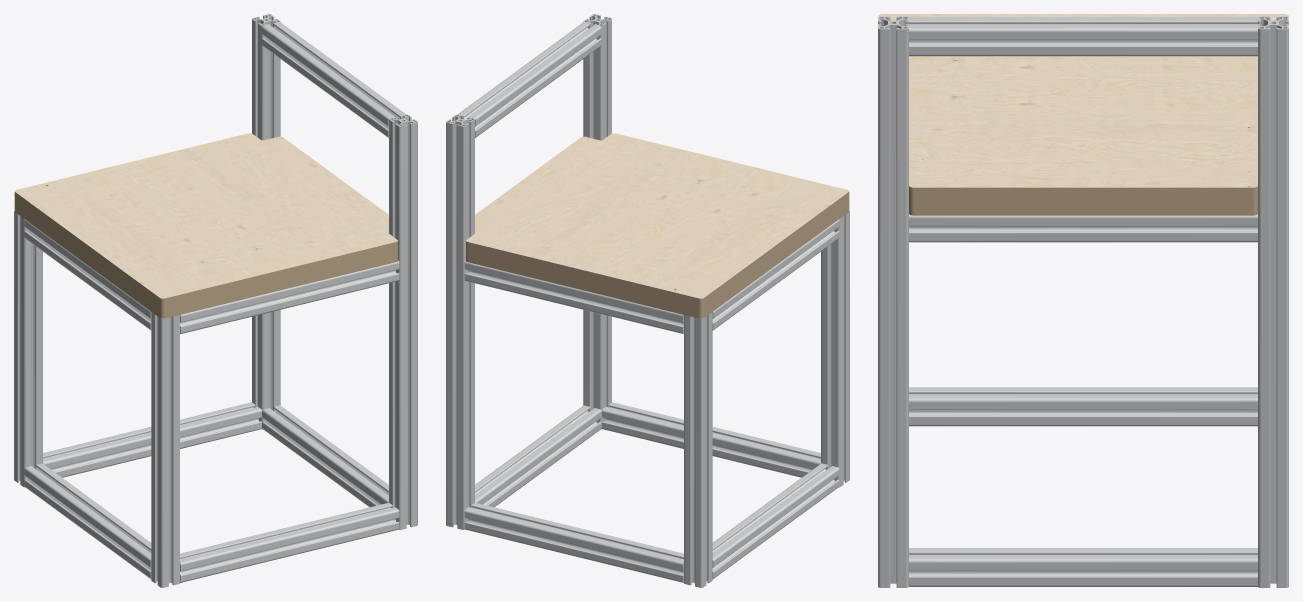
Rendered from chair-01.glb.
3 views of the same model, side by side, from view 1: azimuth 30°, elevation 25°; view 2: azimuth 150°, elevation 25°; view 3: azimuth 270°, elevation 25° (orthographic). The views are drawn at different scales.
Parts seen in each view (by area): view 1: PLYWOOD SEAT, PROFILE 08, PROFILE 01, PROFILE 04, PROFILE 10, PROFILE 09, PROFILE 02, PROFILE 06, PROFILE 03, PROFILE 12, PROFILE 07, PROFILE 13; view 2: PLYWOOD SEAT, PROFILE 09, PROFILE 04, PROFILE 01, PROFILE 02, PROFILE 08, PROFILE 10, PROFILE 06, PROFILE 03, PROFILE 05, PROFILE 07, PROFILE 13; view 3: PLYWOOD SEAT, PROFILE 08, PROFILE 09, PROFILE 03, PROFILE 06, PROFILE 07, PROFILE 11.
Part boxes in pixels (left/top/right/bottom): PLYWOOD SEAT: left=14, top=133, right=397, bottom=318; PROFILE 08: left=389, top=114, right=417, bottom=529; PROFILE 01: left=151, top=312, right=179, bottom=587; PROFILE 04: left=14, top=211, right=42, bottom=487; PROFILE 10: left=180, top=502, right=399, bottom=582; PROFILE 09: left=252, top=14, right=280, bottom=429; PROFILE 02: left=43, top=402, right=261, bottom=477; PROFILE 06: left=262, top=22, right=405, bottom=137; PROFILE 03: left=24, top=463, right=151, bottom=578; PROFILE 12: left=180, top=260, right=399, bottom=334; PROFILE 07: left=262, top=405, right=388, bottom=507; PROFILE 13: left=24, top=219, right=151, bottom=330; PLYWOOD SEAT: left=466, top=133, right=849, bottom=318; PROFILE 09: left=446, top=114, right=474, bottom=529; PROFILE 04: left=684, top=312, right=712, bottom=587; PROFILE 01: left=821, top=211, right=849, bottom=487; PROFILE 02: left=464, top=502, right=683, bottom=582; PROFILE 08: left=583, top=14, right=611, bottom=429; PROFILE 10: left=602, top=402, right=820, bottom=477; PROFILE 06: left=458, top=22, right=601, bottom=137; PROFILE 03: left=712, top=463, right=839, bottom=578; PROFILE 05: left=464, top=260, right=683, bottom=334; PROFILE 07: left=475, top=405, right=601, bottom=507; PROFILE 13: left=712, top=219, right=839, bottom=330; PLYWOOD SEAT: left=878, top=14, right=1288, bottom=215; PROFILE 08: left=878, top=16, right=908, bottom=587; PROFILE 09: left=1258, top=16, right=1288, bottom=587; PROFILE 03: left=909, top=387, right=1257, bottom=426; PROFILE 06: left=909, top=17, right=1257, bottom=56; PROFILE 07: left=909, top=548, right=1257, bottom=586; PROFILE 11: left=909, top=214, right=1257, bottom=242.
Size of the model in its own units: 0.4 by 0.6 by 0.4.
3 materials, 1 textured.
